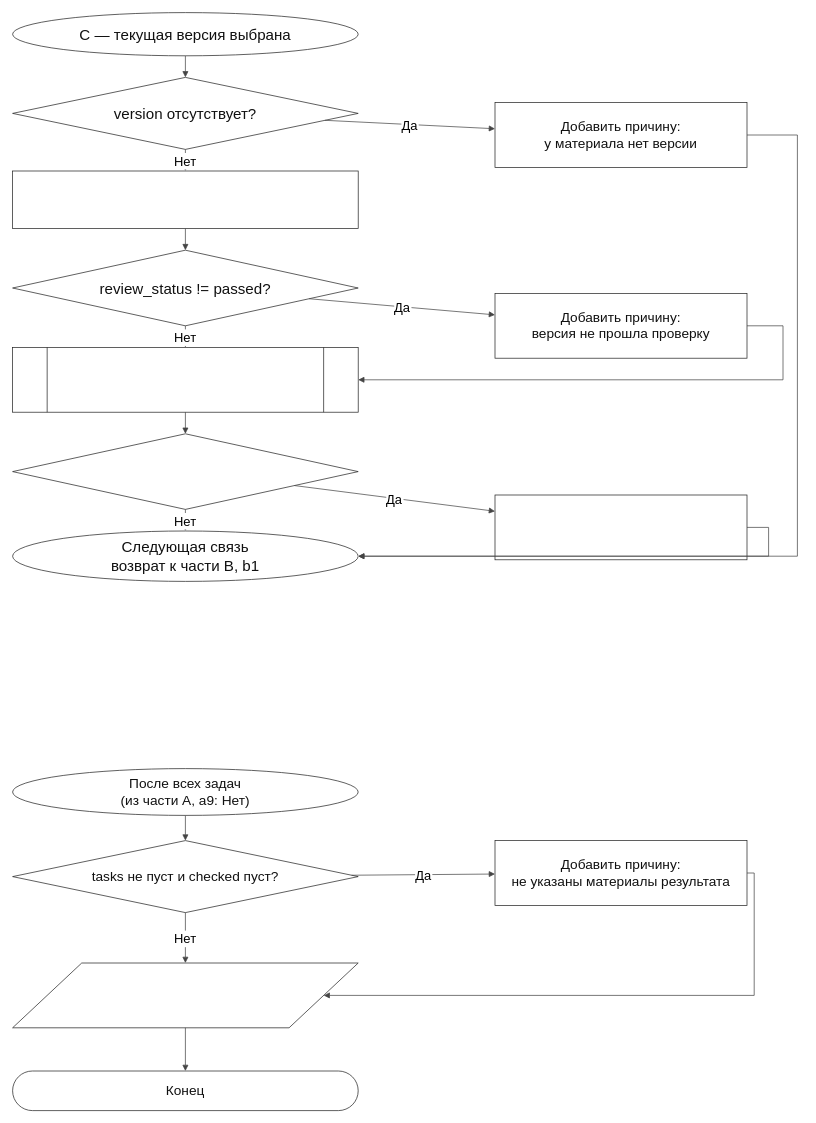
This 816x1123 diagram has some shape labels left out. Each missing label, with the centre of its shape:
"Вывод: ready = not blockers, blockers, версии и счётчики" goes at (185,995).
"Добавить материал и версию в результат versions" goes at (185,199).
"Добавить причину: открытые замечания" goes at (620,527).
"Есть открытые замечания?" goes at (185,471).
"Отобрать открытые замечания для версии — фрагмент F" goes at (185,379).
